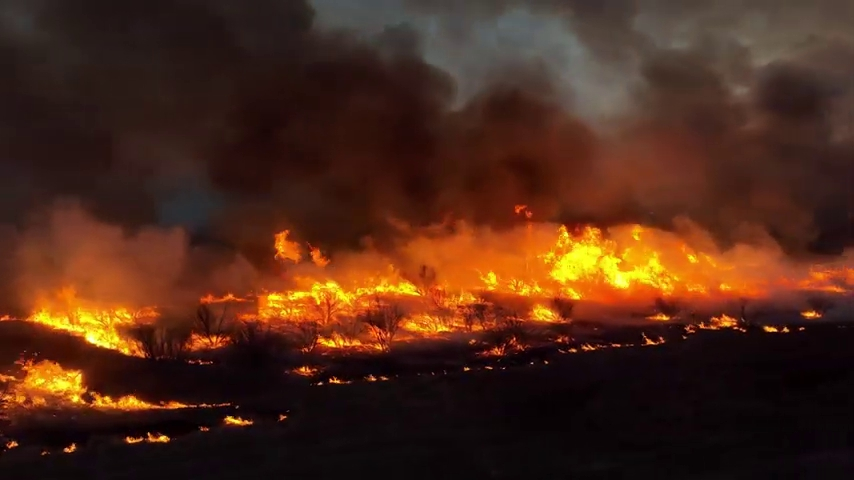forest_fire: (27, 206, 853, 358), (2, 360, 228, 410), (796, 297, 829, 320), (125, 432, 170, 442), (223, 415, 252, 425)
